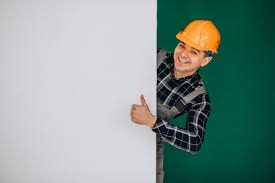Person_wearing_helmet: (170, 18, 221, 54)
